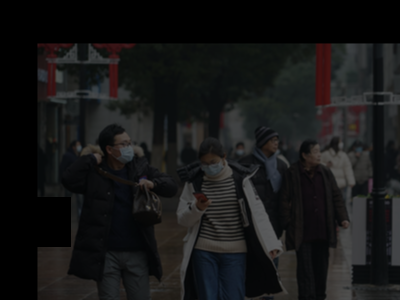with_mask: (113, 137, 136, 164), (200, 156, 224, 176), (74, 143, 83, 155)
without_mask: (308, 146, 322, 164), (266, 136, 280, 151)
